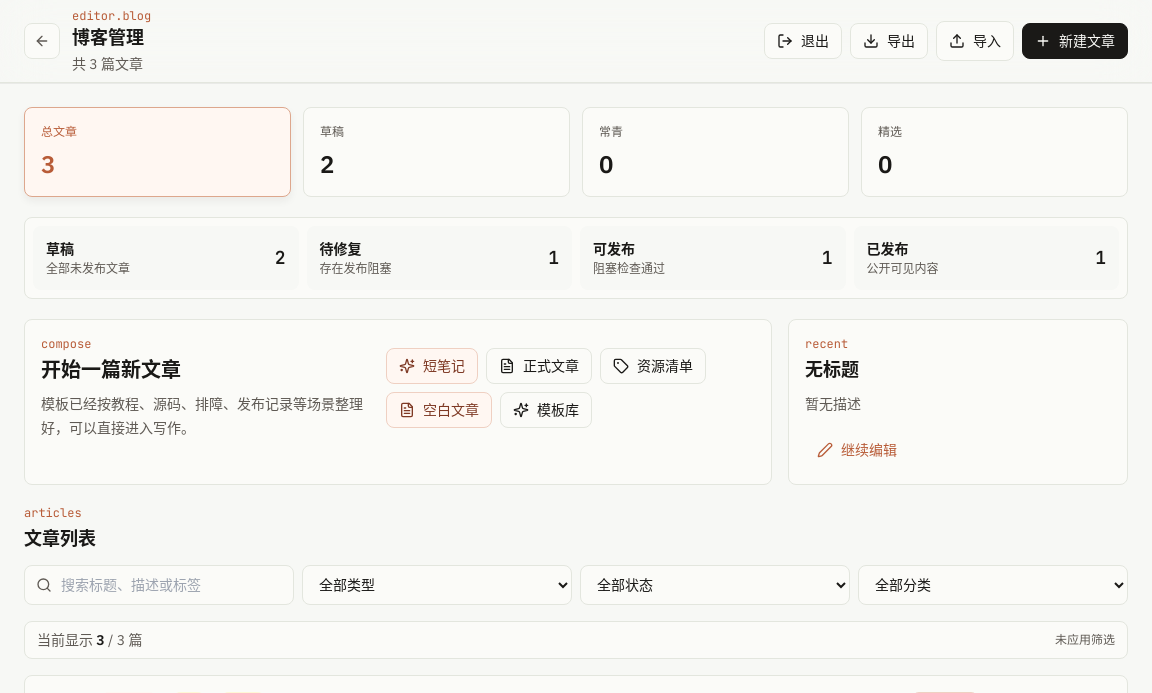
Test: BlogEditorPage › filters articles by workflow tabs and shows quality summaries
Click the button "待修复 存在发布阻塞 1". click: click(340, 249)
box: [306, 226, 572, 290]
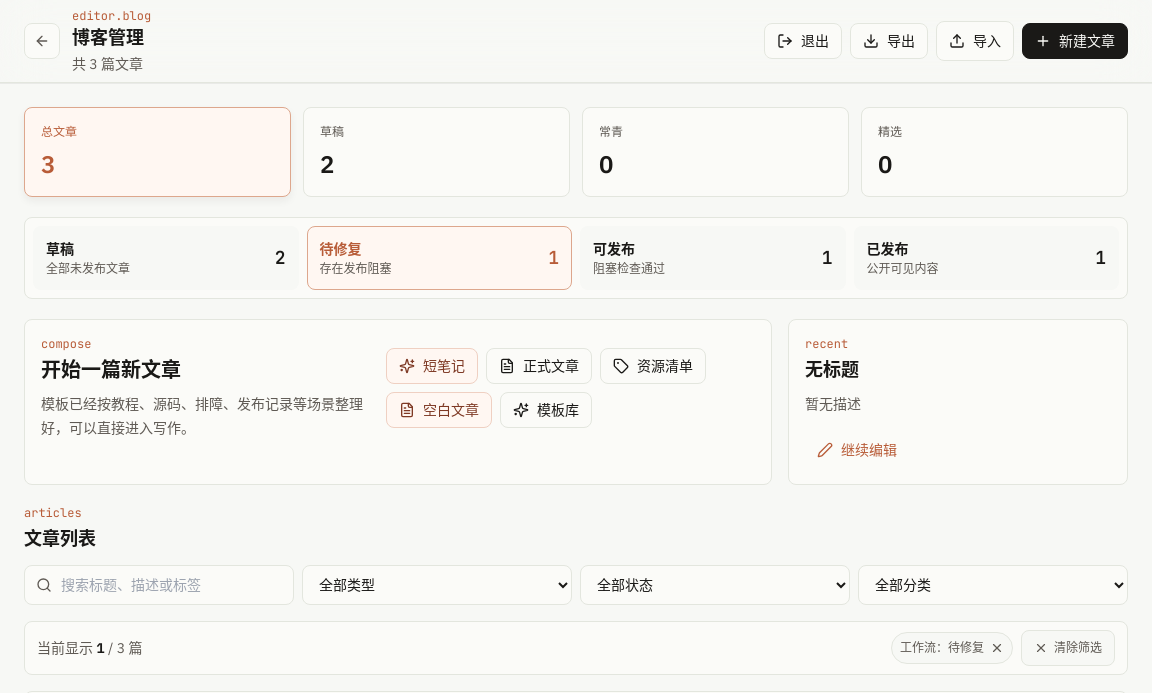
Expected: the text "无标题" is shown, [805, 358, 859, 381]
Expected: the text "当前显示 1 / 3 篇" is shown, [37, 638, 142, 658]
Expected: the text "工作流：待修复" is shown, [891, 632, 1013, 664]
Click the button "可发布 阻塞检查通过 1". click: click(614, 249)
box: [580, 226, 846, 290]
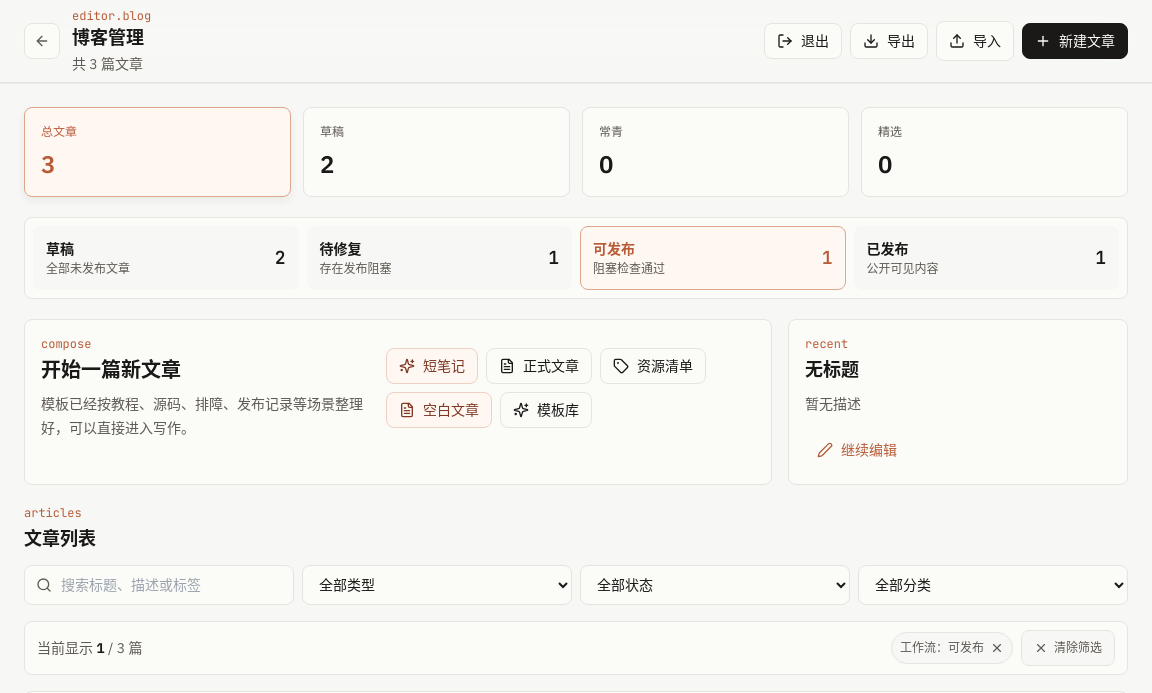
Expected: the text "当前显示 1 / 3 篇" is shown, [37, 638, 142, 658]
Expected: the text "工作流：可发布" is shown, [891, 632, 1013, 664]
